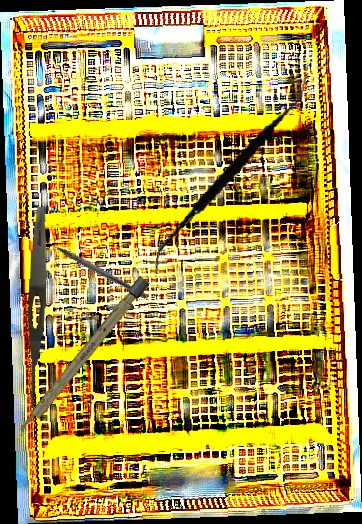Chopper: (40, 232, 152, 299)
Dressing Forceps: (23, 206, 51, 409)
Scalpel Handle: (14, 275, 150, 440)
Spatula Surgical: (154, 56, 308, 293)
